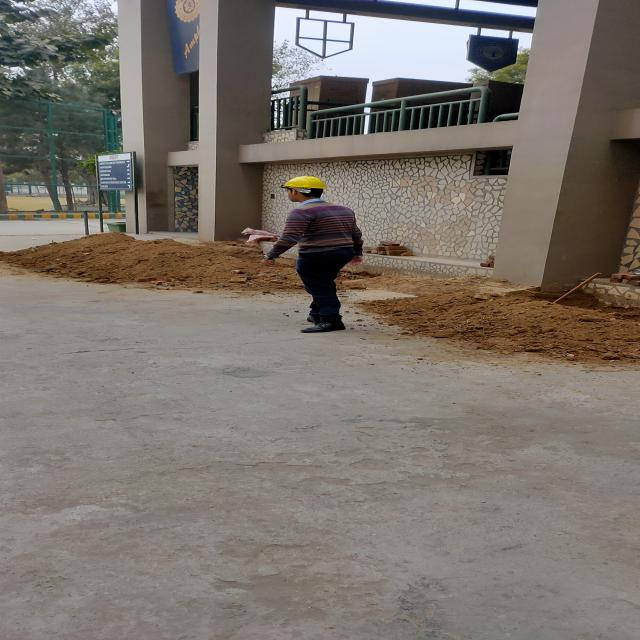no jacket: (258, 175, 362, 332)
